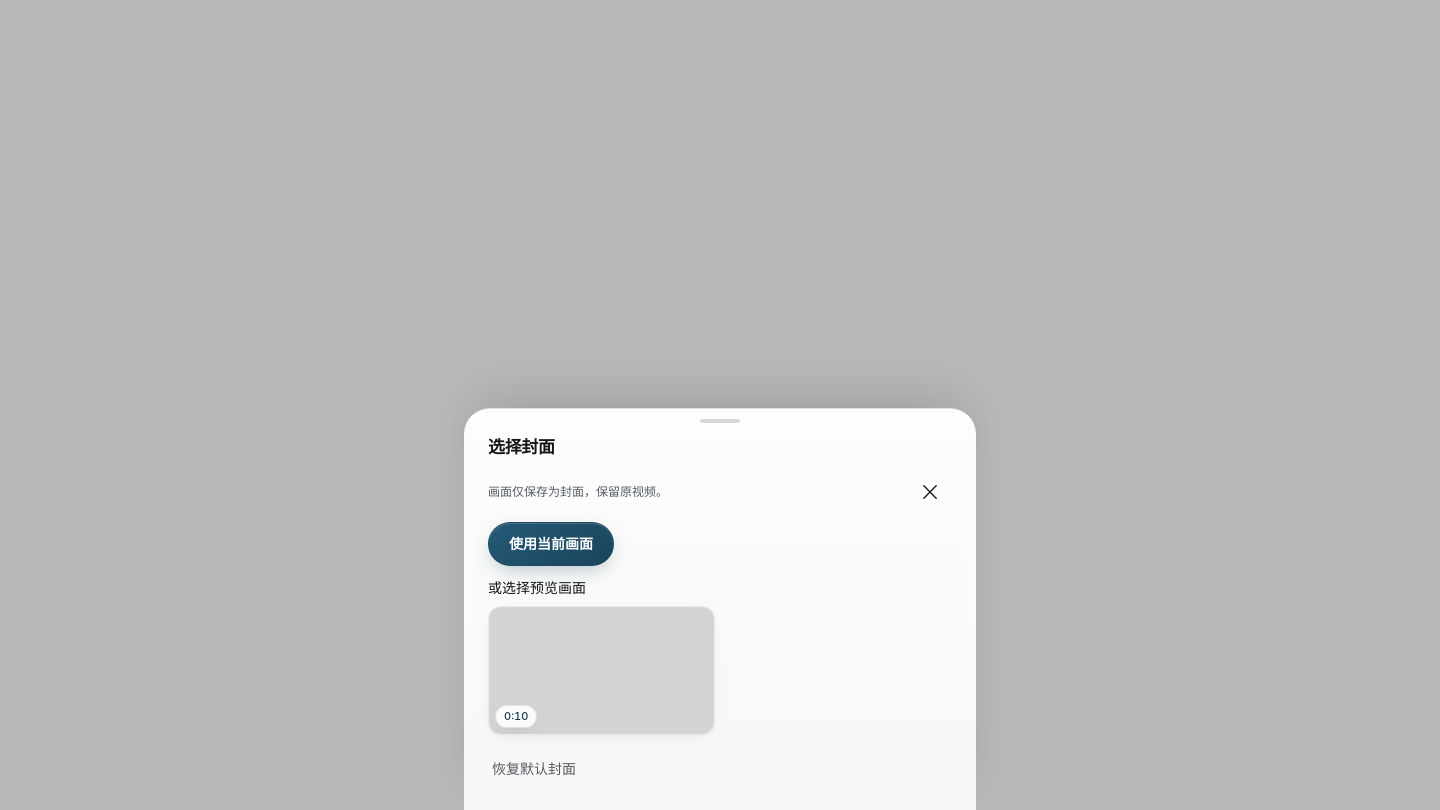
Test: does not capture a video that has switched to another media source
Click the button with aria-label "使用当前画面". click: x=551, y=544
box: [488,522,614,566]
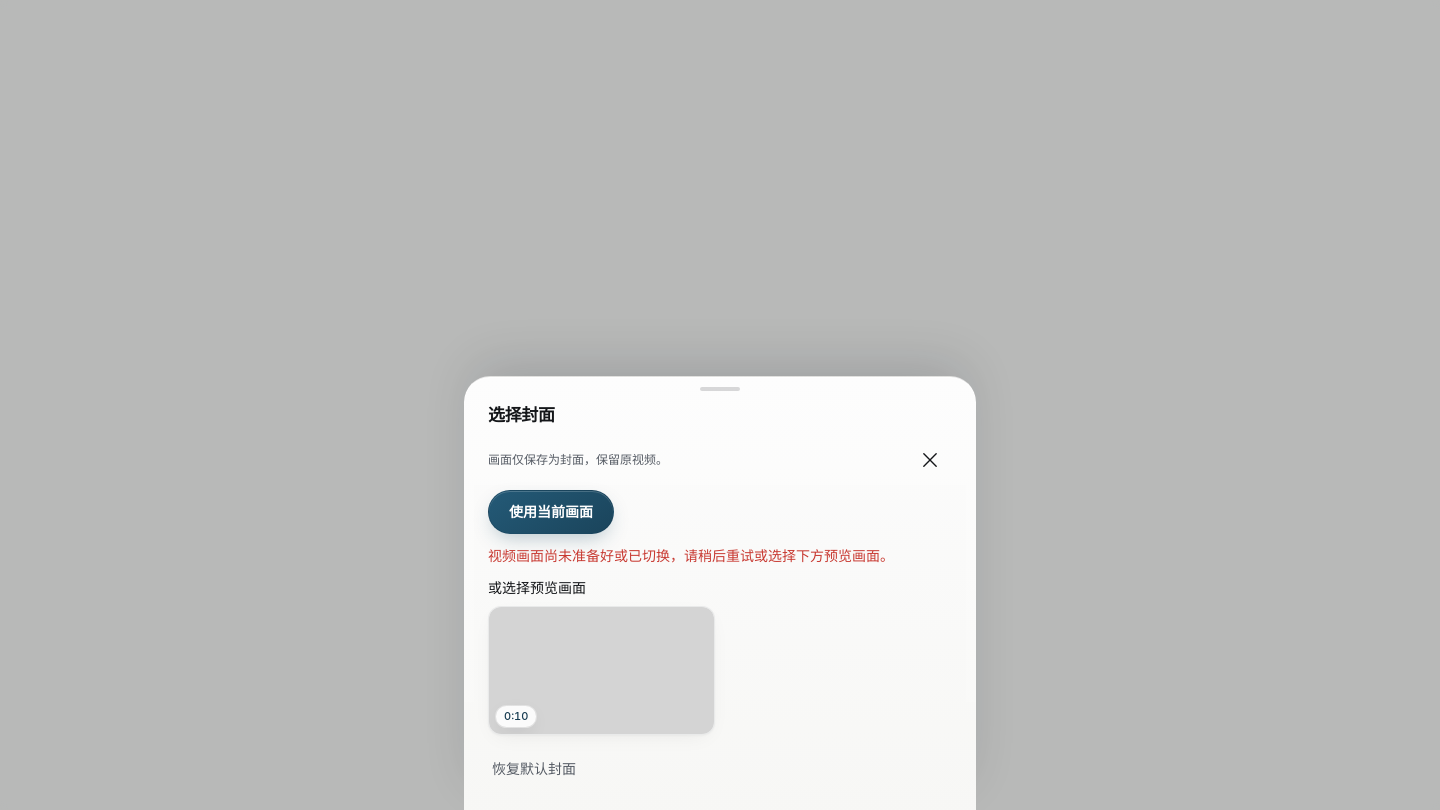
Now the message "视频画面尚未准备好或已切换，请稍后重试或选择下方预览画面。" is shown, box [488,547,894,564]
